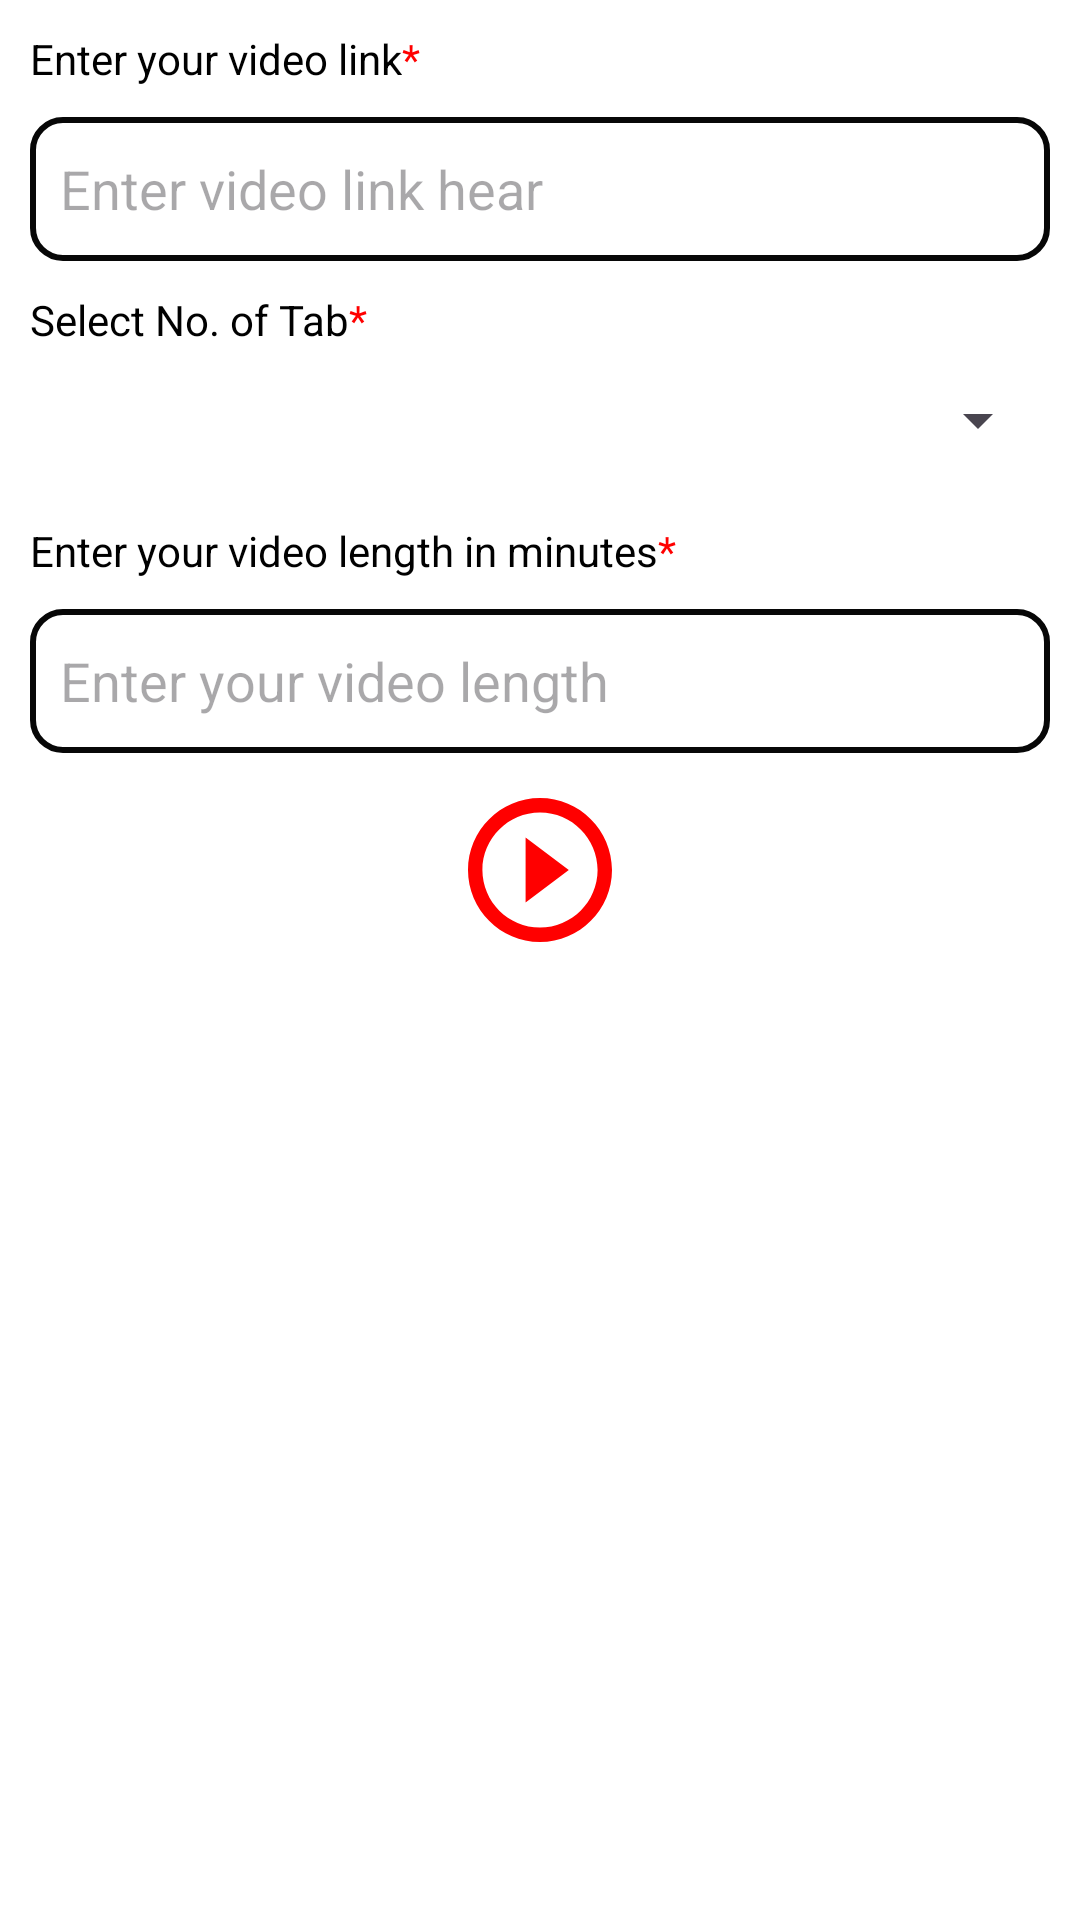

Named icons in this screenshot (1080w x 1920h) and their bounding boxes, (x1, y1, x2, y2):
play: (468, 798, 612, 942)
